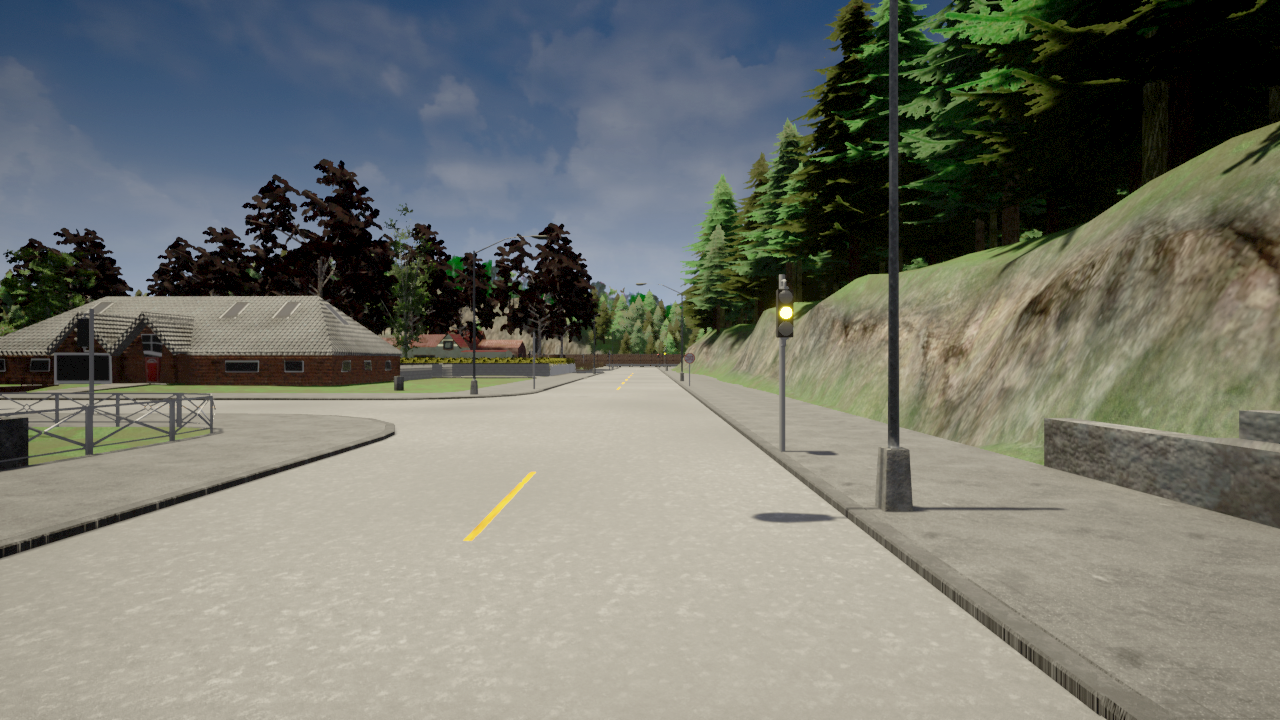yellow: (773, 286, 795, 338)
